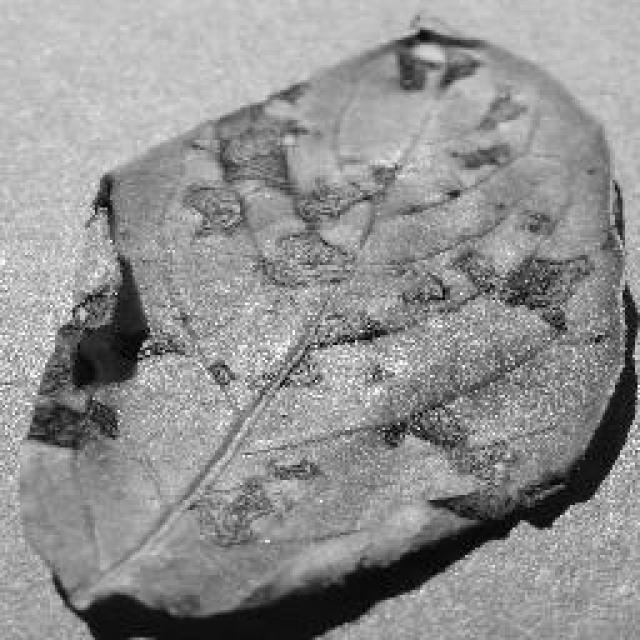Potato: (15, 15, 630, 633)
